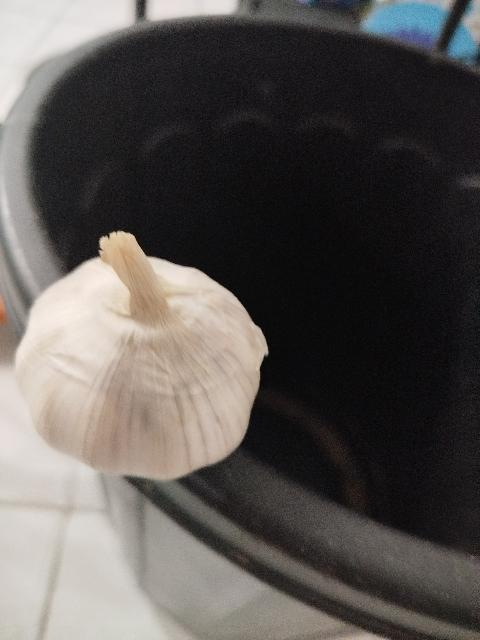garlic: (13, 230, 269, 482)
